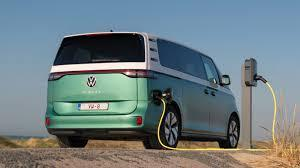volkswagen: (83, 72, 98, 91)
